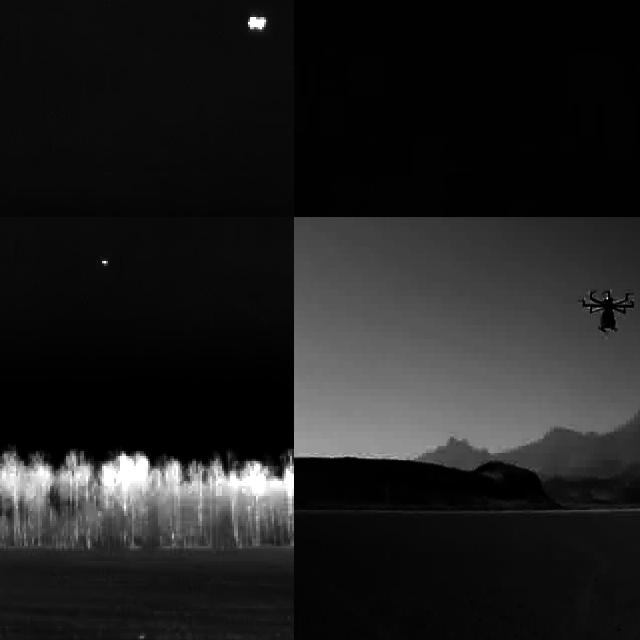1: (238, 12, 274, 42), (86, 251, 116, 281)
drone: (578, 289, 634, 337)
